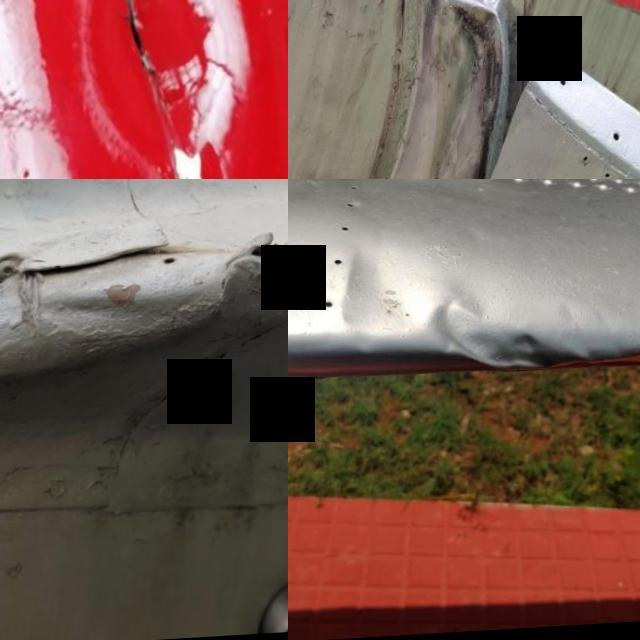Crack: (20, 0, 263, 179), (219, 213, 288, 299)
Dent: (395, 0, 526, 179), (428, 274, 607, 402), (288, 179, 410, 217)
